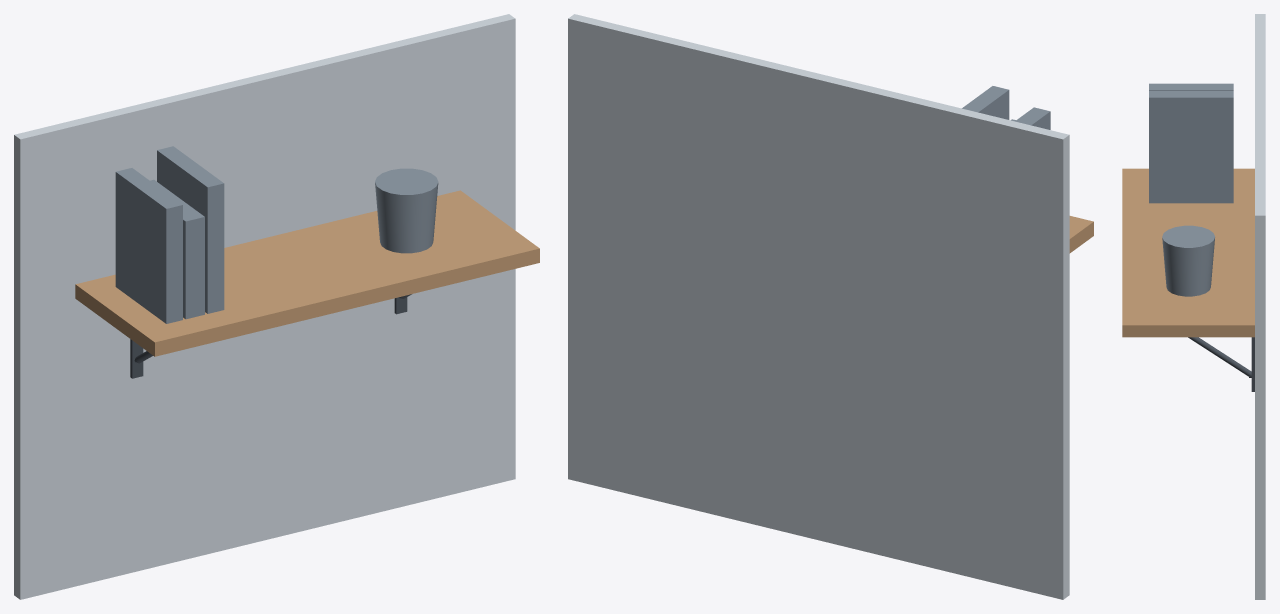
File: shelf.glb
3 renders of one model, left to right at view 1: azimuth 30°, elevation 25°; view 2: azimuth 150°, elevation 25°; view 3: azimuth 270°, elevation 25°, orthographic. The views are drawn at different scales.
Parts seen in each view (by area): view 1: 벽, 선반 판, 소품, 선반 받침; view 2: 벽, 소품; view 3: 선반 판, 소품, 벽, 선반 받침.
Part boxes in pixels (bbox=[...]): 벽: bbox=[14, 14, 515, 599]; 선반 판: bbox=[75, 190, 539, 356]; 소품: bbox=[115, 146, 438, 323]; 선반 받침: bbox=[130, 294, 411, 378]; 벽: bbox=[568, 14, 1069, 599]; 소품: bbox=[962, 86, 1050, 129]; 선반 판: bbox=[1122, 168, 1254, 337]; 소품: bbox=[1149, 83, 1233, 296]; 벽: bbox=[1255, 14, 1265, 599]; 선반 받침: bbox=[1188, 337, 1254, 391].
Size of the model in its own units: 0.9 by 0.8 by 0.27.
